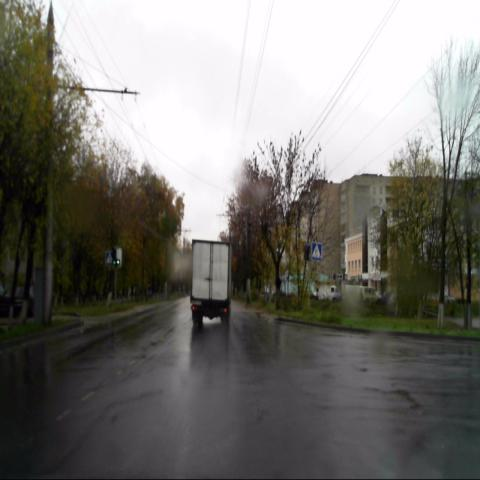5_19_1: (310, 241, 322, 262), (105, 249, 115, 265)
